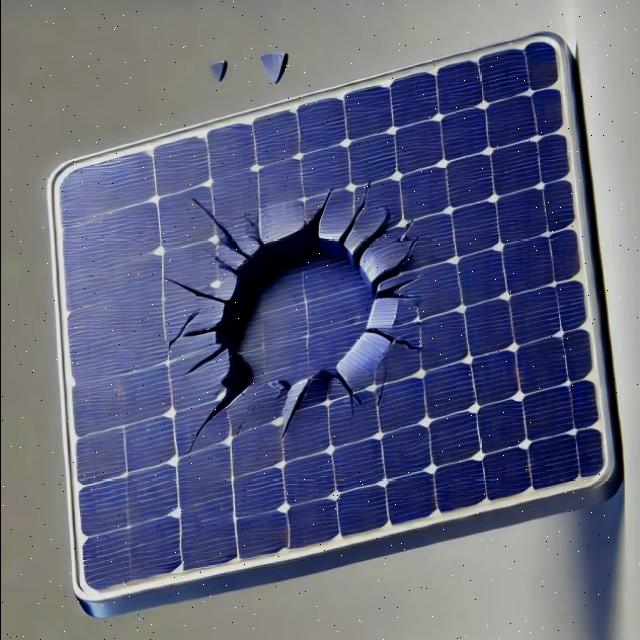Anomaly Solar Panel: (55, 36, 612, 599)
Structural Damage: (194, 210, 390, 428), (174, 376, 248, 456), (180, 193, 250, 265), (369, 234, 425, 289), (335, 180, 374, 244), (275, 376, 310, 441), (158, 275, 224, 305), (365, 323, 423, 355), (329, 364, 363, 415), (161, 306, 199, 350), (300, 186, 329, 236), (179, 344, 224, 375), (372, 273, 420, 299), (176, 320, 218, 338), (208, 253, 239, 276), (232, 402, 252, 437), (371, 373, 388, 409)
